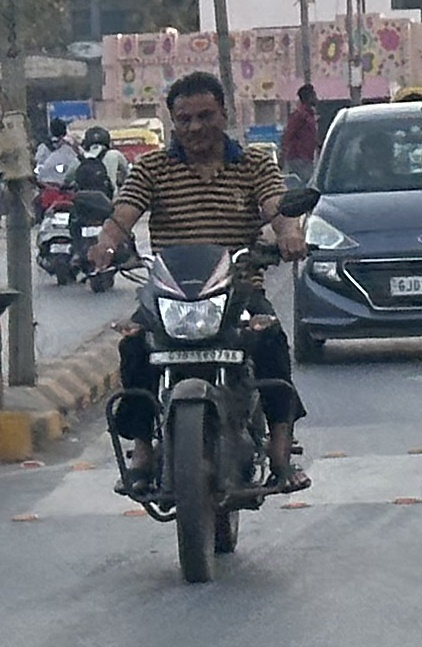BikeWithRider: (87, 67, 307, 575), (74, 118, 130, 298), (29, 107, 81, 288)
NoHelmet: (167, 69, 226, 152)
